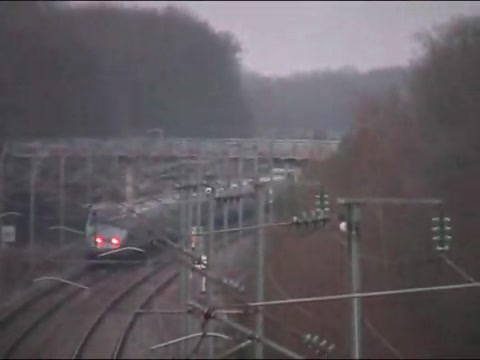train: (86, 191, 266, 260)
